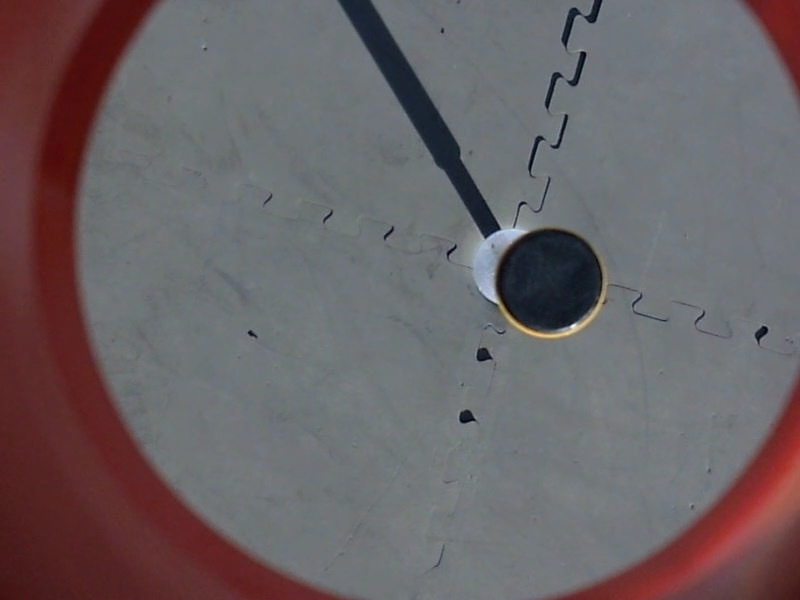tip: (497, 223, 610, 334)
